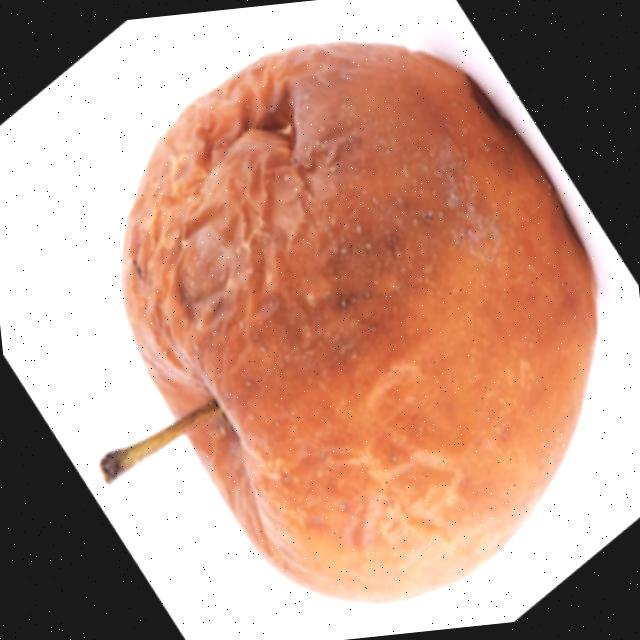Rotten: (92, 9, 632, 626)
